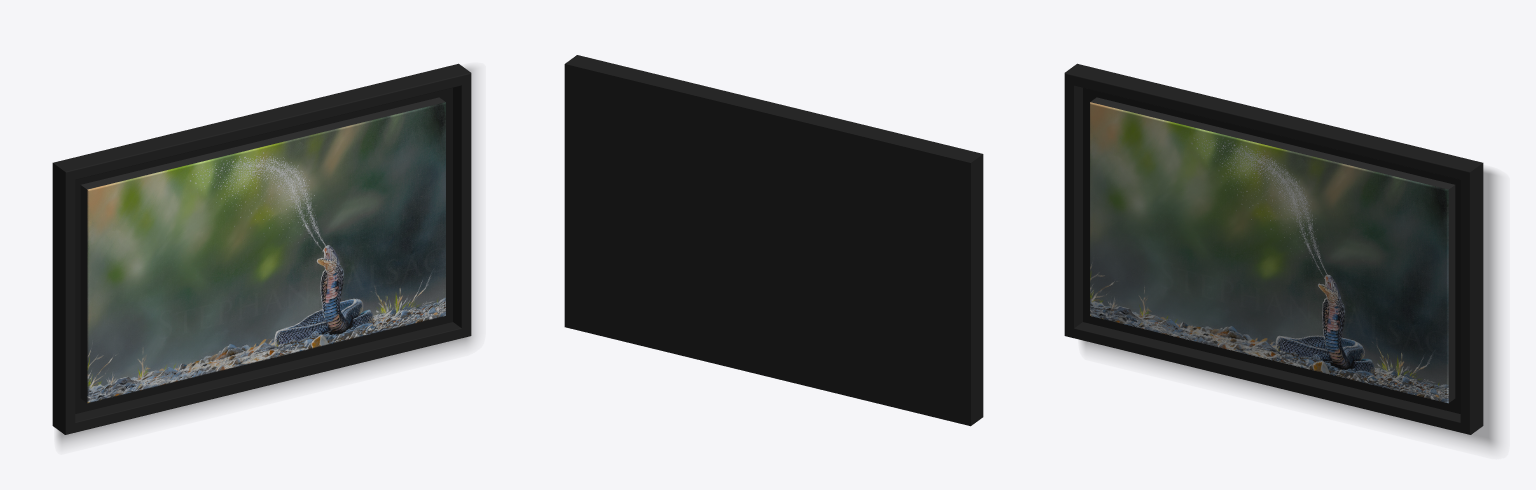
Rendered from tableau-serpent-cobra-classique-03358950.glb.
3 views of the same model, side by side, from view 1: azimuth 30°, elevation 25°; view 2: azimuth 150°, elevation 25°; view 3: azimuth 330°, elevation 25° (orthographic).
Parts seen in each view (by area): view 1: Painting; view 2: Painting; view 3: Painting.
Boxes of the visible parts, bbox=[...] form: Painting: bbox=[52, 63, 474, 444]; Painting: bbox=[564, 55, 983, 426]; Painting: bbox=[1064, 63, 1498, 448].
Bounding box in the file's own units: 0.876 × 0.596 × 0.04.
5 materials, 3 textured.
